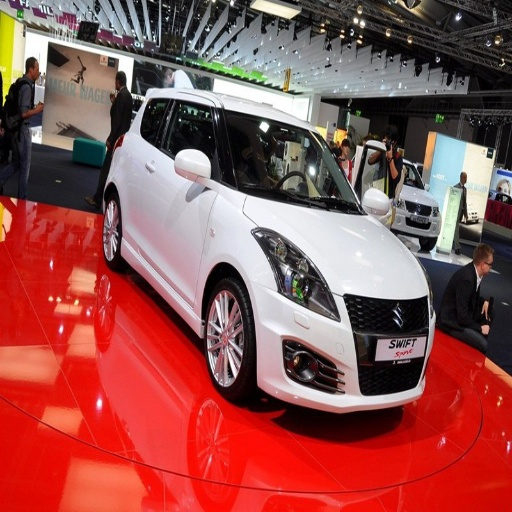front_bumper: (251, 282, 456, 443)
front_right_door: (148, 100, 215, 303)
front_right_light: (252, 229, 339, 319)
hood: (239, 193, 426, 298)
trunk: (364, 434, 445, 474)
